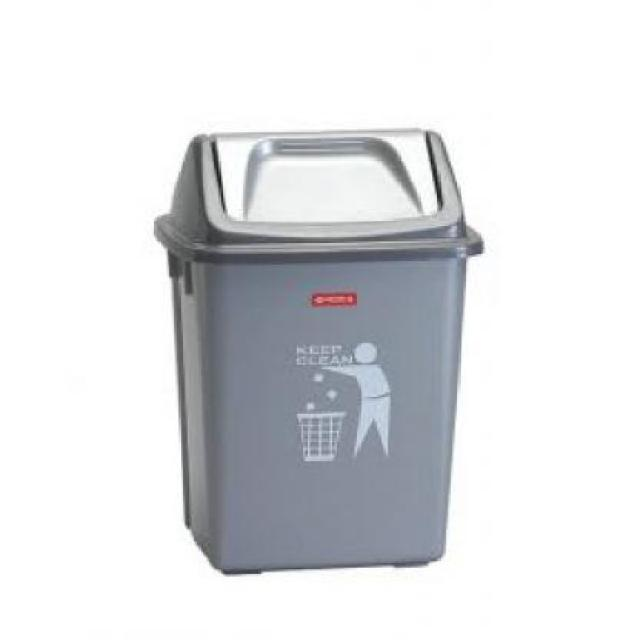garbage container: (145, 120, 504, 602)
